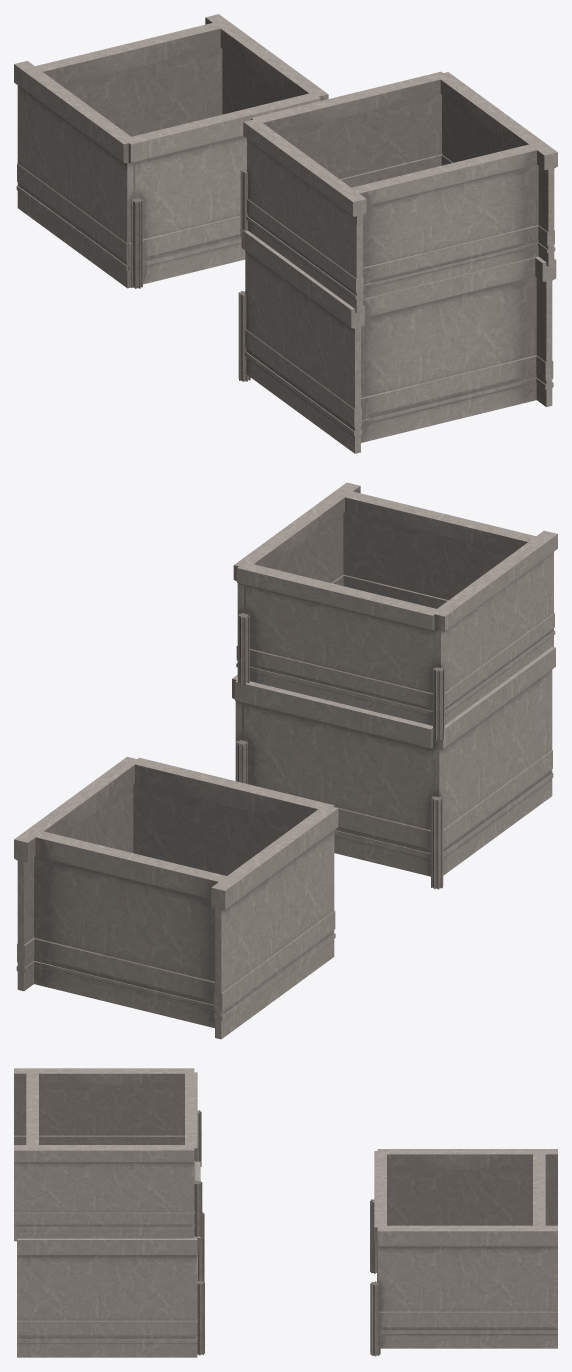
File: Tower_Fix.fbx
3 renders of one model, top to bottom at view 1: azimuth 30°, elevation 25°; view 2: azimuth 150°, elevation 25°; view 3: azimuth 270°, elevation 25°, orthographic. The views are drawn at different scales.
Parts seen in each view (by area): view 1: Group_16__2_, Group_16__1_, Group_16; view 2: Group_16__1_, Group_16__2_, Group_16; view 3: Group_16__1_, Group_16__2_, Group_16.
Part boxes in pixels (box(x1,y1,x2,y2)): Group_16__2_: box(240, 71, 557, 313); Group_16__1_: box(14, 14, 328, 288); Group_16: box(238, 230, 556, 453); Group_16__1_: box(14, 756, 338, 1039); Group_16__2_: box(233, 482, 557, 740); Group_16: box(232, 646, 555, 889); Group_16__1_: box(370, 1149, 557, 1356); Group_16__2_: box(14, 1068, 202, 1241); Group_16: box(17, 1161, 204, 1357).
Bounding box in the file's own units: 890 × 1042 × 2396.
1 material, 1 textured.
